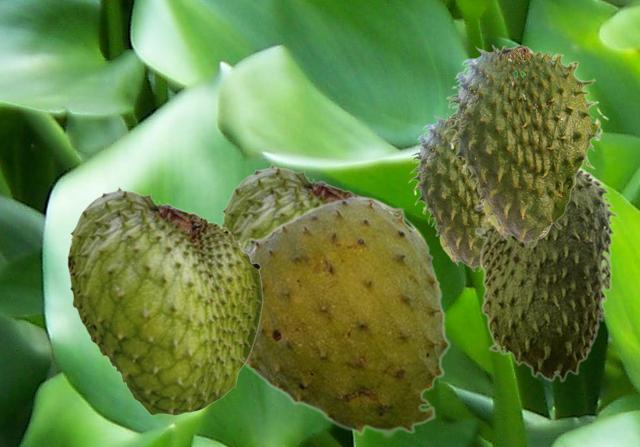guyabano: (242, 195, 450, 438), (67, 185, 262, 415), (443, 44, 608, 247), (474, 167, 618, 381), (408, 113, 484, 271), (221, 162, 360, 241)
